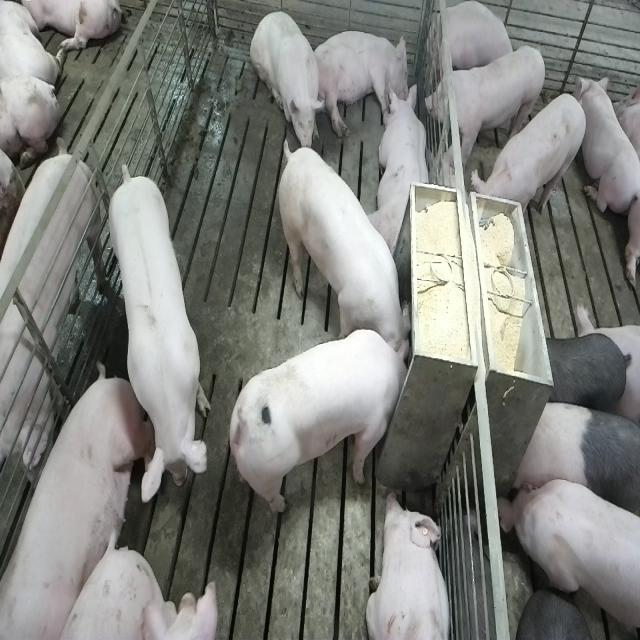Feeding: (240, 328, 418, 519), (276, 136, 410, 362)
Lateral_lying: (0, 363, 141, 640), (312, 29, 409, 139)
Sitting: (250, 8, 326, 153)
Standing: (0, 132, 105, 490), (106, 156, 210, 503), (498, 475, 638, 640), (473, 91, 588, 238), (513, 397, 637, 530), (537, 333, 631, 422), (143, 578, 224, 638), (517, 590, 608, 640)
Sternal_lying: (365, 490, 453, 640), (372, 82, 433, 260), (579, 73, 638, 222), (433, 2, 515, 84)
